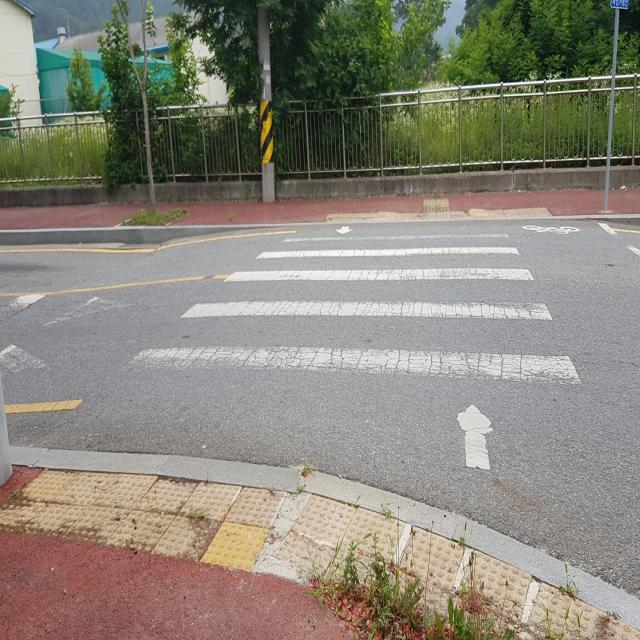횡단보도: (117, 219, 584, 476)
